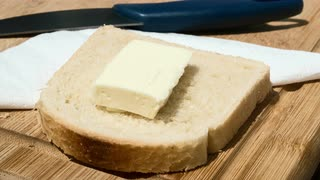slice of bread: (41, 23, 275, 173)
